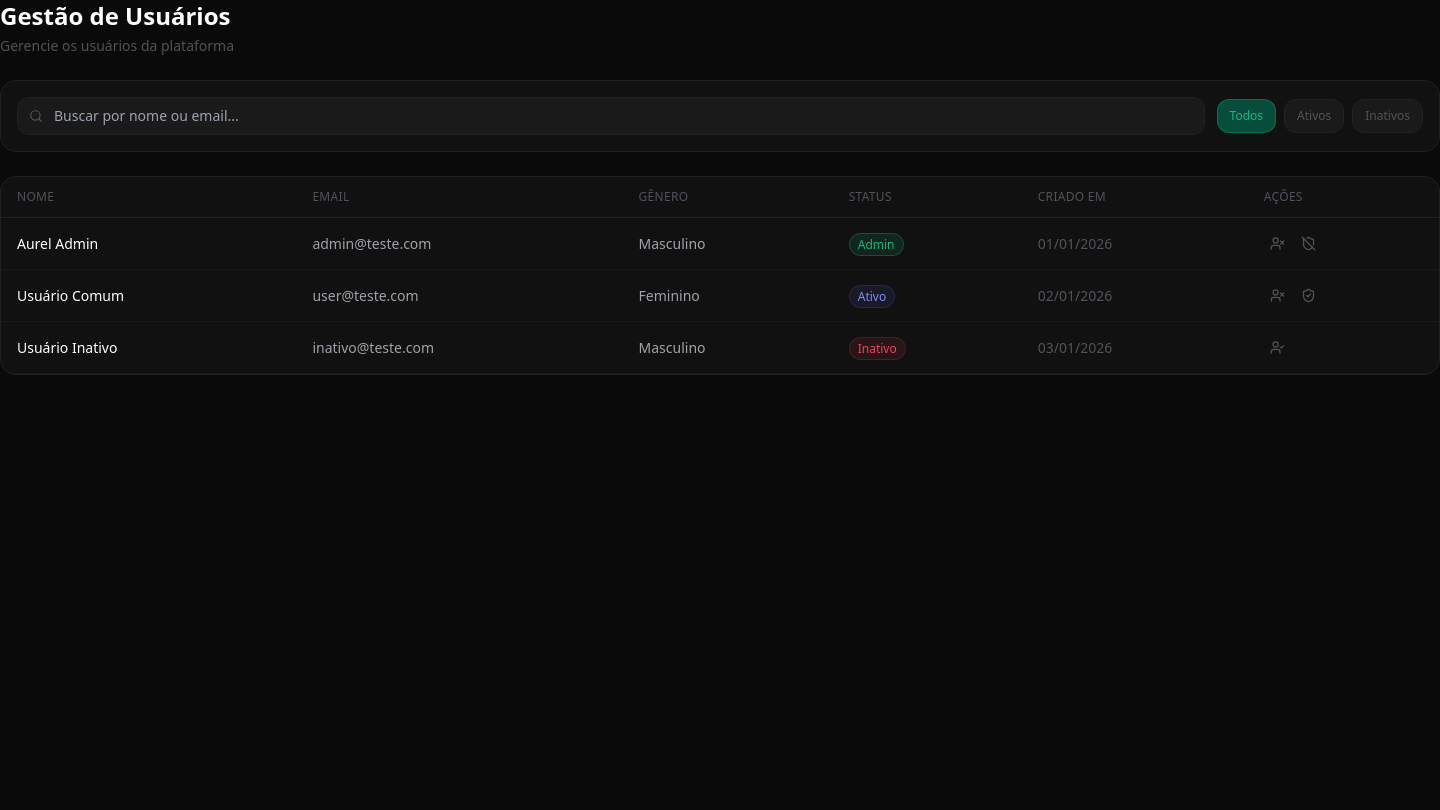
Scenario: AdminUsersPage › deve fechar modal ao clicar em cancelar
What coordinates should you click on to do the following:
click the button titled "Desativar" in the row of "Aurel Admin"
I would click on:
 (1277, 244)
Its box is left=1264, top=230, right=1291, bottom=257.
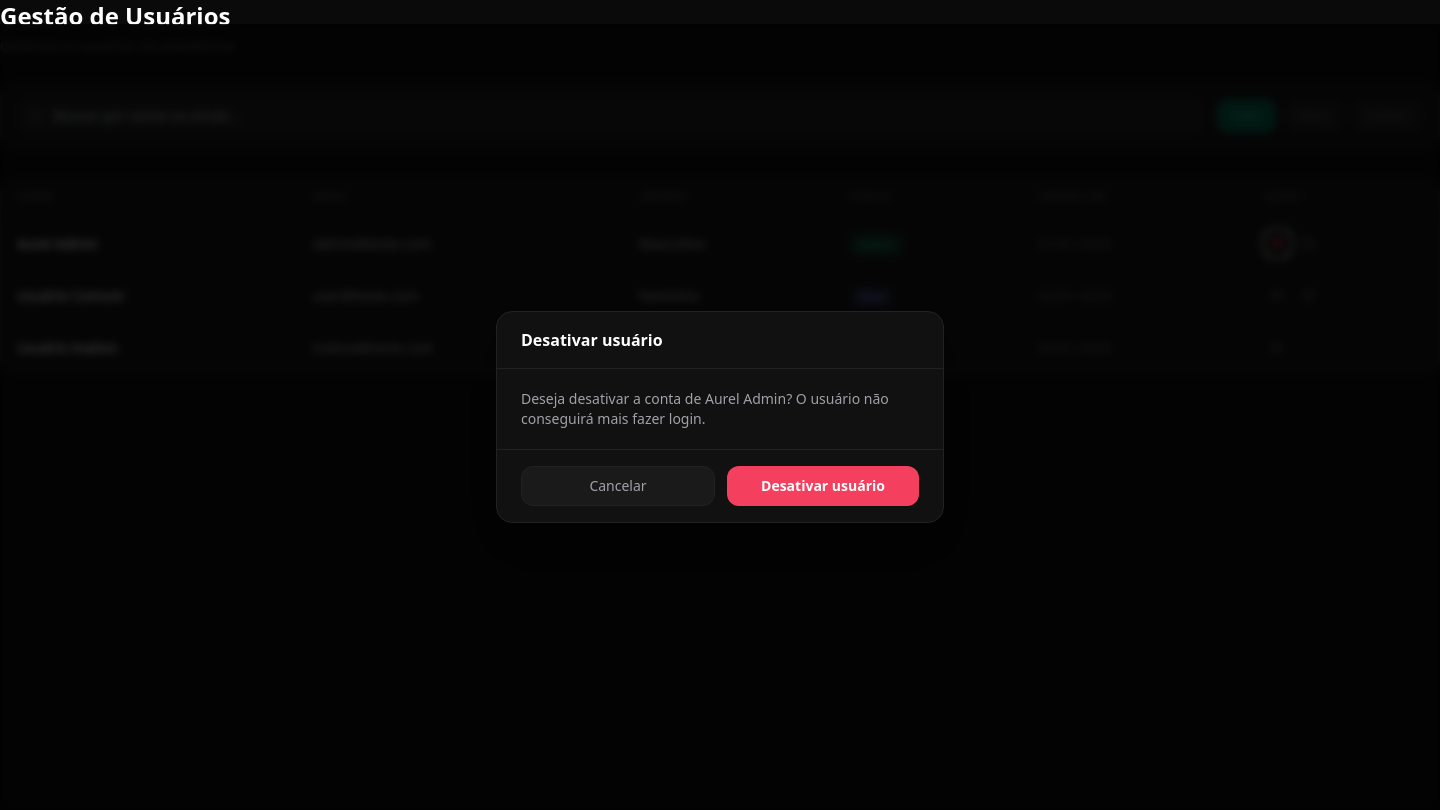
What coordinates should you click on to do the following:
click the button "Cancelar"
I would click on:
 (618, 486)
Its box is left=521, top=466, right=715, bottom=506.
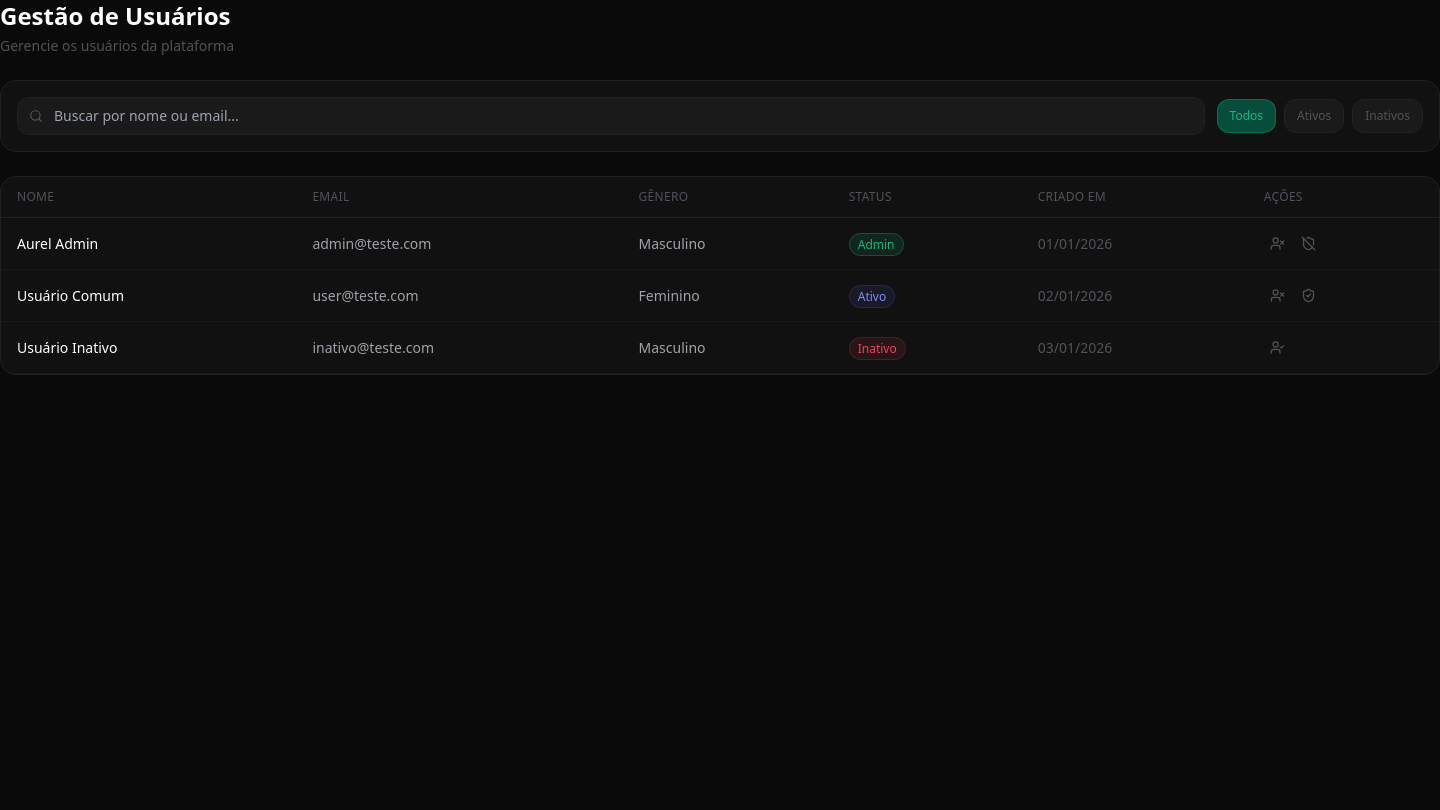
Result: the text "Deseja desativar" is gone
